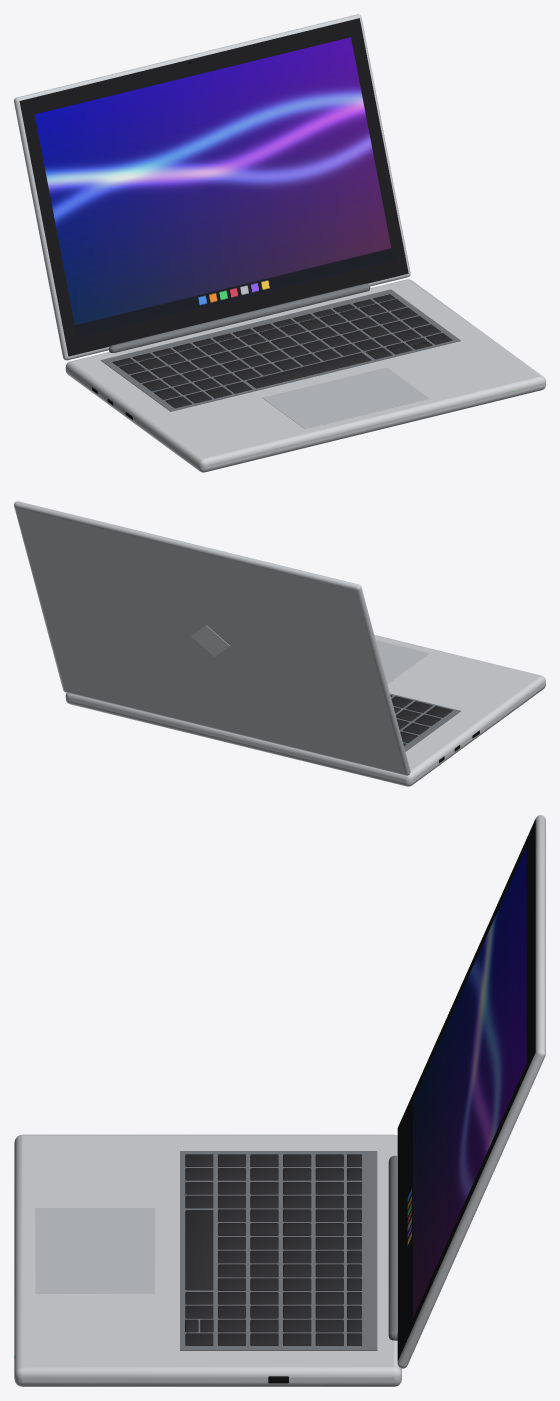
File: laptop.fbx
3 renders of one model, top to bottom at view 1: azimuth 30°, elevation 25°; view 2: azimuth 150°, elevation 25°; view 3: azimuth 270°, elevation 25°, orthographic. The views are drawn at different scales.
Parts seen in each view (by area): view 1: Display, Base, BezelGlass, Keyboard, KeyboardWell, Touchpad, Lid, HingeBar; view 2: Lid, Base, Keyboard, Touchpad, KeyboardWell, LidLogo; view 3: Base, Keyboard, Display, KeyboardWell, Touchpad, BezelGlass, Lid, HingeBar.
Part boxes in pixels (left/top/right/bottom): Display: left=34, top=37, right=393, bottom=337; Base: left=65, top=279, right=545, bottom=472; BezelGlass: left=19, top=18, right=408, bottom=356; Keyboard: left=112, top=294, right=452, bottom=408; KeyboardWell: left=100, top=289, right=460, bottom=411; Touchpad: left=263, top=367, right=429, bottom=428; Lid: left=14, top=14, right=410, bottom=360; HingeBar: left=109, top=283, right=370, bottom=352; Lid: left=14, top=501, right=410, bottom=775; Base: left=65, top=635, right=545, bottom=786; Keyboard: left=390, top=695, right=452, bottom=745; Touchpad: left=376, top=640, right=428, bottom=683; KeyboardWell: left=390, top=693, right=460, bottom=751; LidLogo: left=191, top=625, right=229, bottom=656; Base: left=14, top=1134, right=401, bottom=1386; Keyboard: left=185, top=1154, right=361, bottom=1345; Display: left=406, top=847, right=526, bottom=1332; KeyboardWell: left=180, top=1151, right=377, bottom=1350; Touchpad: left=35, top=1208, right=155, bottom=1293; BezelGlass: left=397, top=819, right=535, bottom=1360; Lid: left=397, top=815, right=545, bottom=1368; HingeBar: left=388, top=1155, right=397, bottom=1340.
Size of the model in its own units: 0.3208 by 0.2117 by 0.302.
9 materials, 1 textured.
